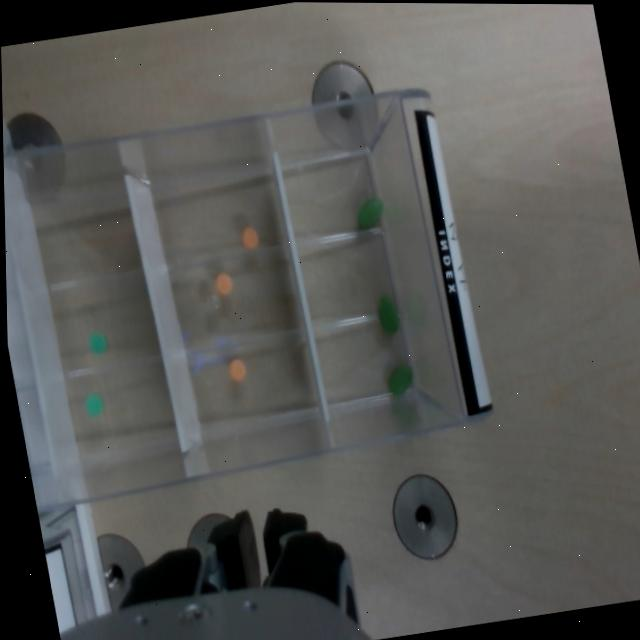famodine: (82, 390, 105, 417), (87, 329, 107, 354)
otillen_tab: (374, 295, 403, 335), (355, 194, 387, 230), (385, 362, 417, 396)
samsung_octylonium_tab: (239, 225, 261, 250), (227, 358, 247, 383), (215, 271, 235, 295)
